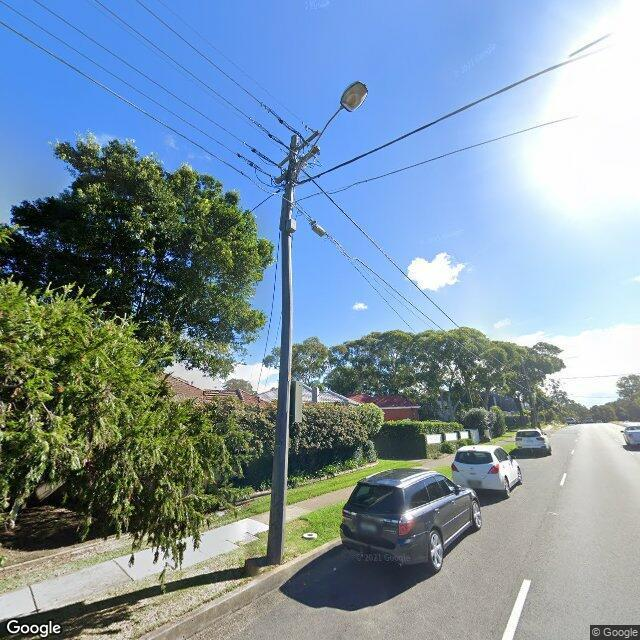crossarm: (276, 145, 320, 185), (277, 129, 321, 169)
streetlight: (292, 80, 369, 186)
timber-pole: (265, 136, 301, 566)
